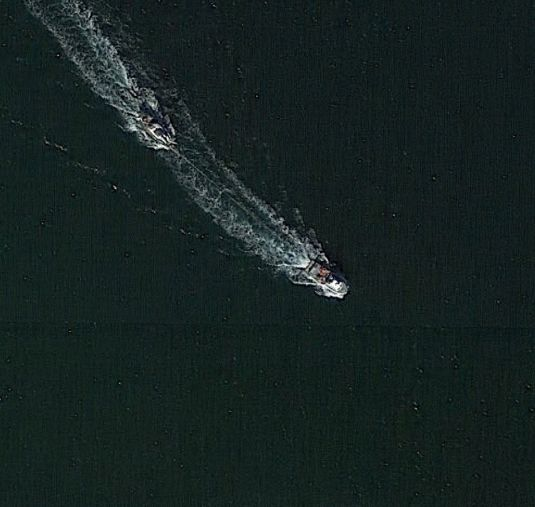boat: (131, 108, 182, 153), (300, 256, 352, 300)
